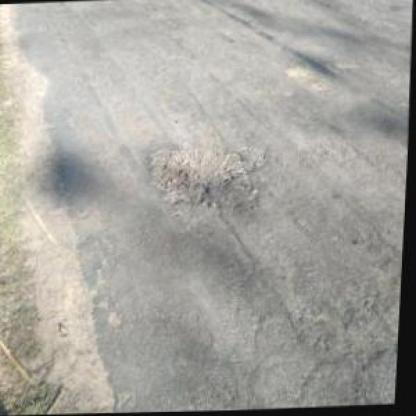pothole: (143, 139, 270, 209)
